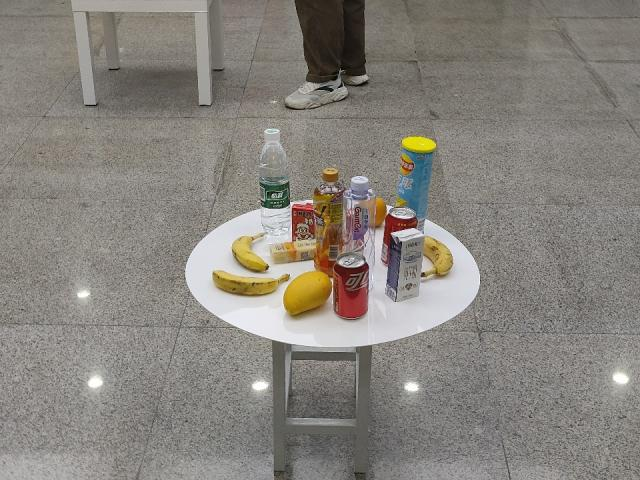Canned_drinks: (334, 257, 368, 321)
bottle: (260, 132, 292, 231), (345, 180, 372, 258)
cylinder: (400, 138, 430, 208)
drink_box: (393, 229, 421, 298), (292, 203, 314, 236)
